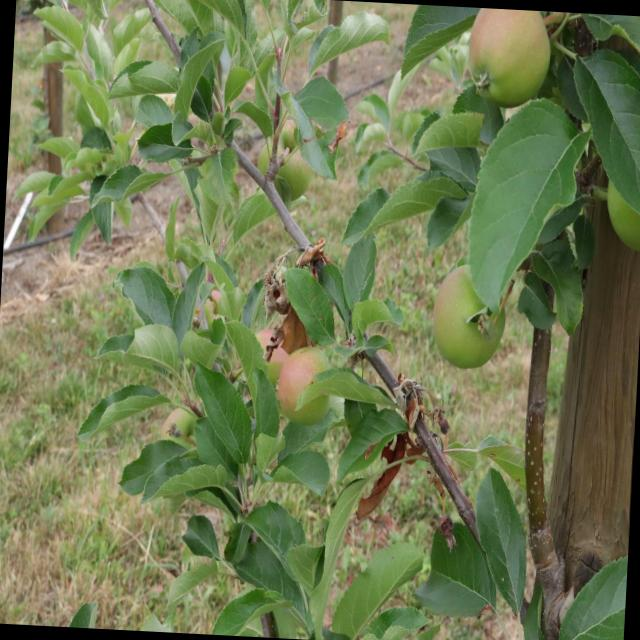-FireBlight-: (379, 384, 428, 468), (286, 234, 336, 287), (274, 300, 308, 358), (375, 465, 399, 501)
